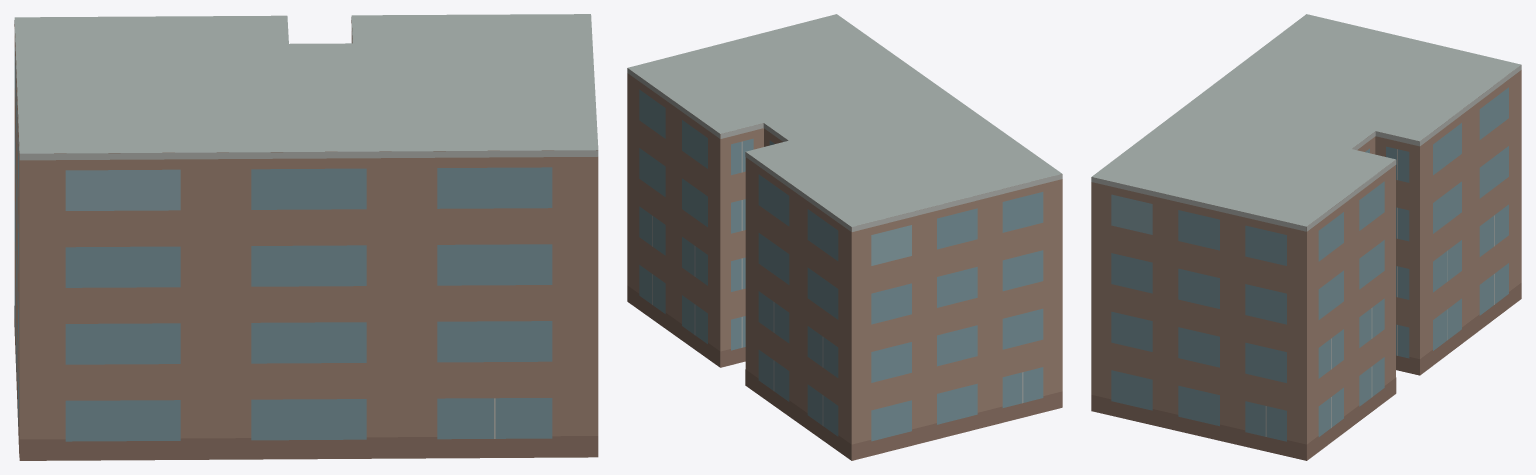
File: survey-upis-33045546.glb
3 renders of one model, left to right at view 1: azimuth 30°, elevation 25°; view 2: azimuth 150°, elevation 25°; view 3: azimuth 270°, elevation 25°, orthographic. The views are drawn at different scales.
Visible parts, largest first — view 1: survey-upis-33045546.tmp; view 2: survey-upis-33045546.tmp; view 3: survey-upis-33045546.tmp.
Boxes of the visible parts, x1,y1,x2,y2 form: survey-upis-33045546.tmp: (14, 14, 598, 460); survey-upis-33045546.tmp: (627, 14, 1062, 460); survey-upis-33045546.tmp: (1091, 14, 1521, 460).
Bounding box in the file's own units: 21.76 × 11.17 × 18.6.
